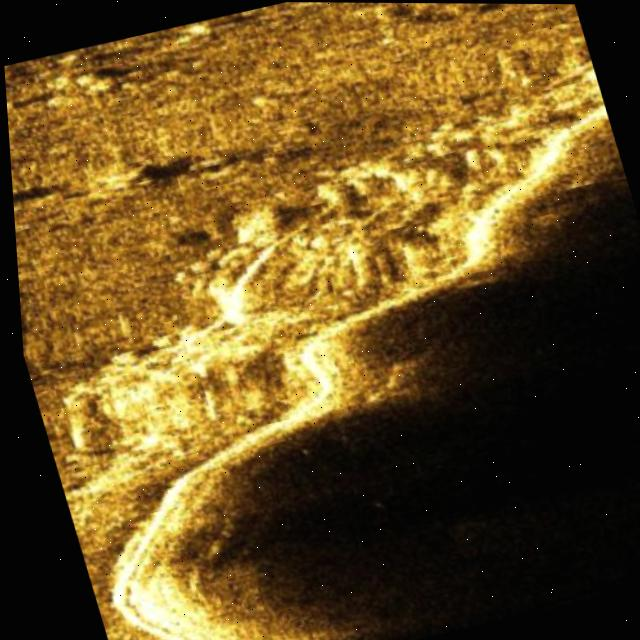bedrock group: (3, 52, 640, 485)
